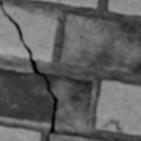brick: (60, 15, 140, 74), (95, 80, 140, 134), (0, 126, 40, 140), (107, 0, 140, 16), (38, 0, 97, 8), (50, 134, 106, 140)
broken_brick: (3, 5, 57, 61), (0, 69, 53, 123), (46, 74, 92, 128), (0, 9, 28, 58)
crack: (0, 1, 58, 140)
